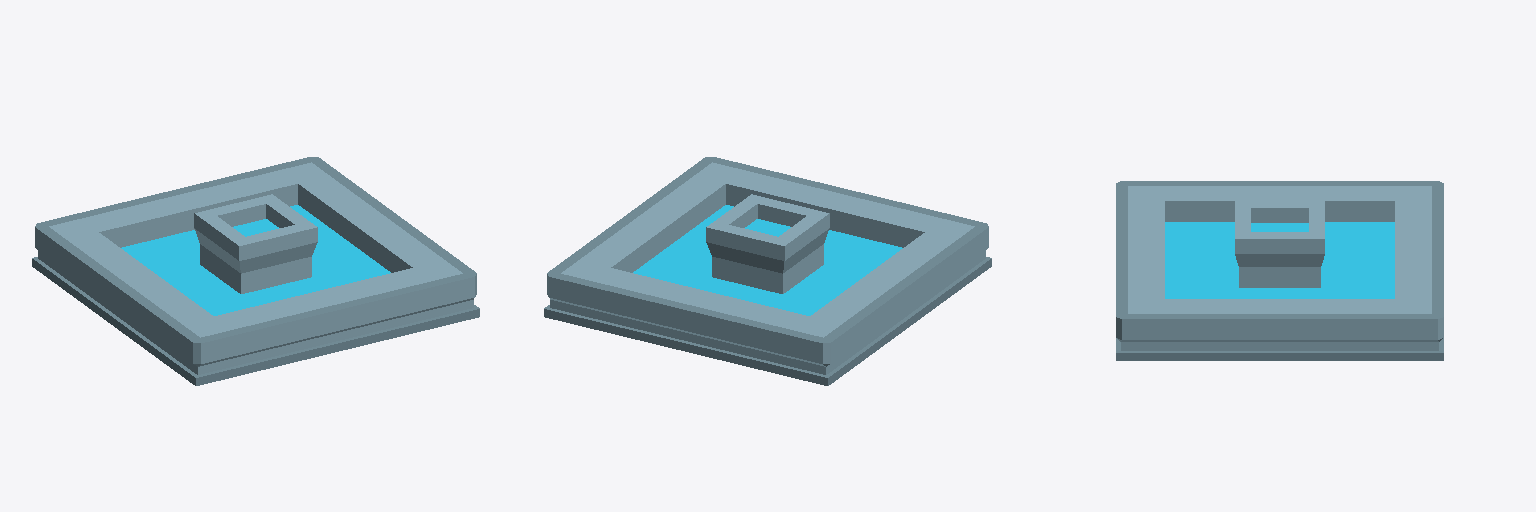
The model's file is fountainSquareDetail.obj.
3 renders of one model, left to right at view 1: azimuth 30°, elevation 25°; view 2: azimuth 150°, elevation 25°; view 3: azimuth 270°, elevation 25°, orthographic.
Parts seen in each view (by area): view 1: fountainSquareDetail; view 2: fountainSquareDetail; view 3: fountainSquareDetail.
Part boxes in pixels (left/top/right/bottom): fountainSquareDetail: left=32, top=157, right=479, bottom=385; fountainSquareDetail: left=544, top=157, right=991, bottom=385; fountainSquareDetail: left=1116, top=181, right=1443, bottom=360.
Size of the model in its own units: 2 by 0.48 by 2.